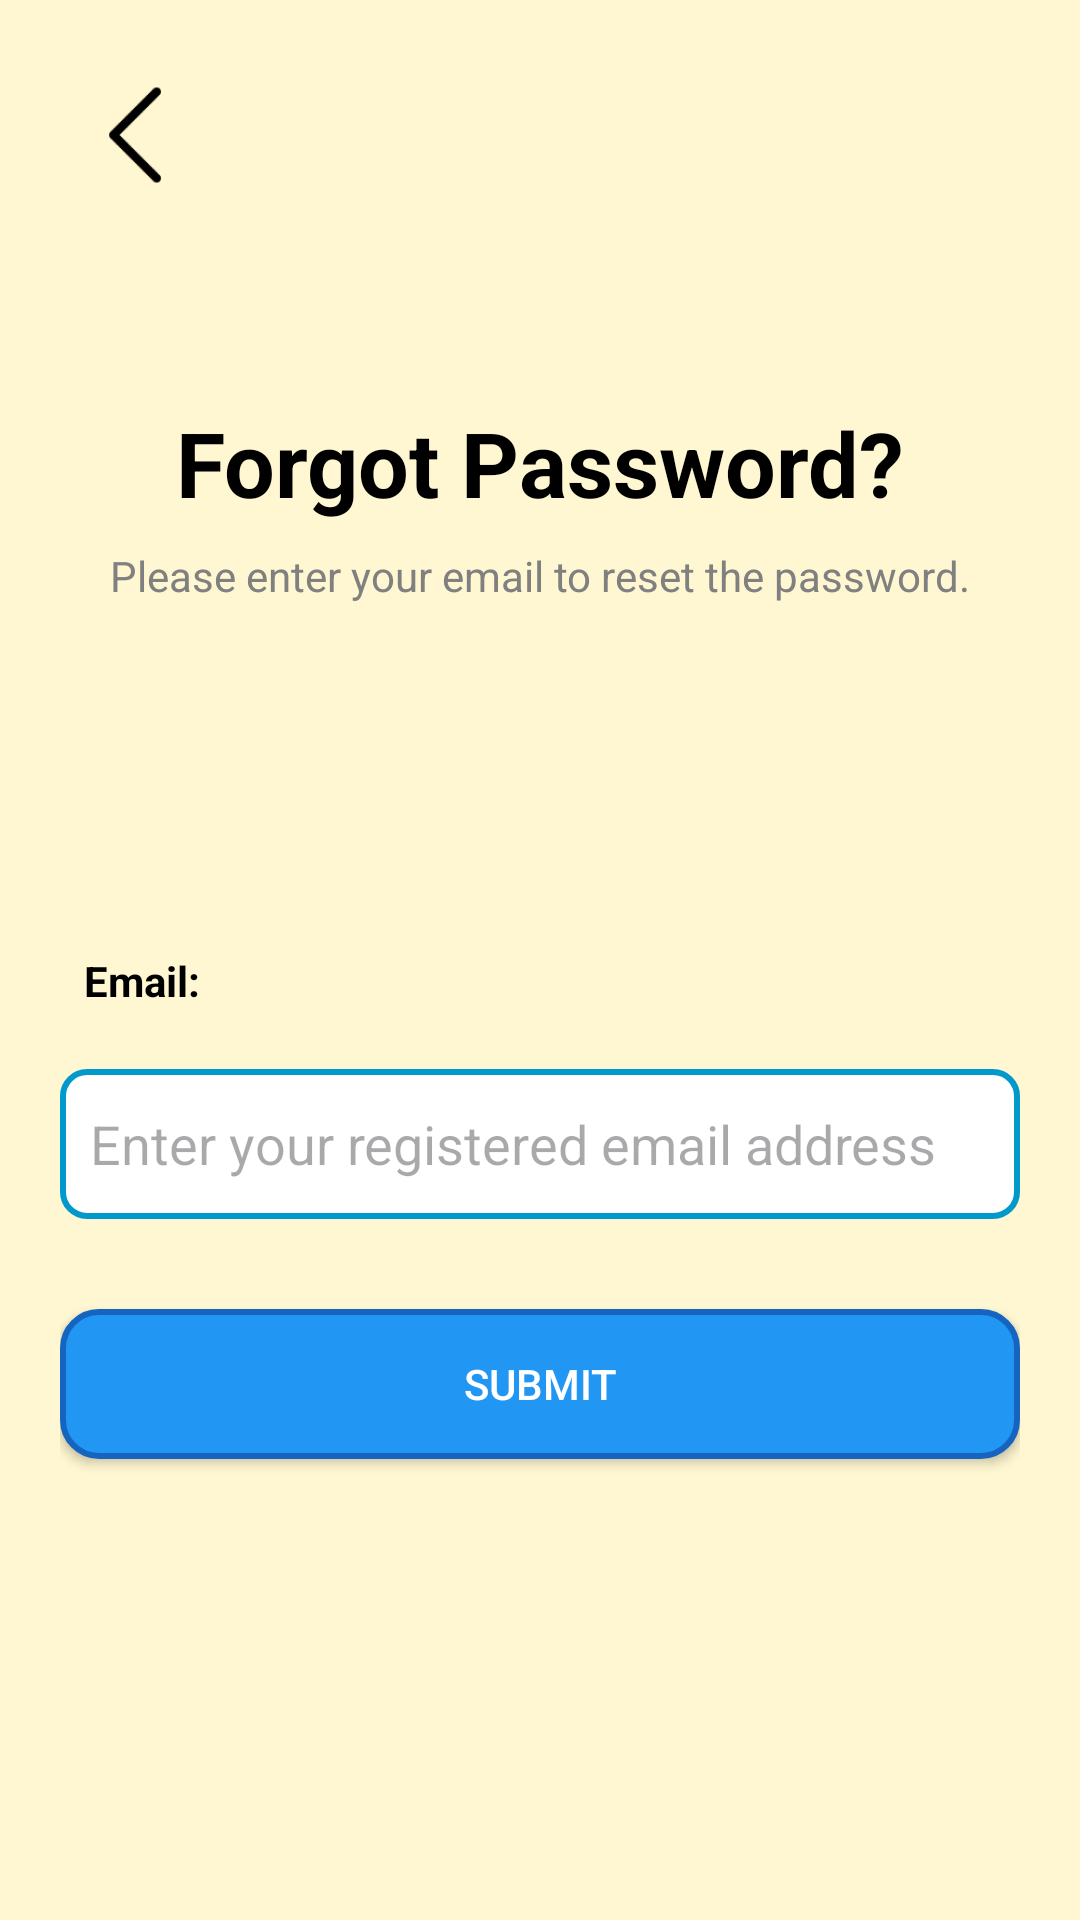

Screen size 1080×1920. Icon name, then its box in pixels as (x1=x1, y1=y1, x2=x2, y2=y2):
Back: (x1=109, y1=87, x2=161, y2=183)
